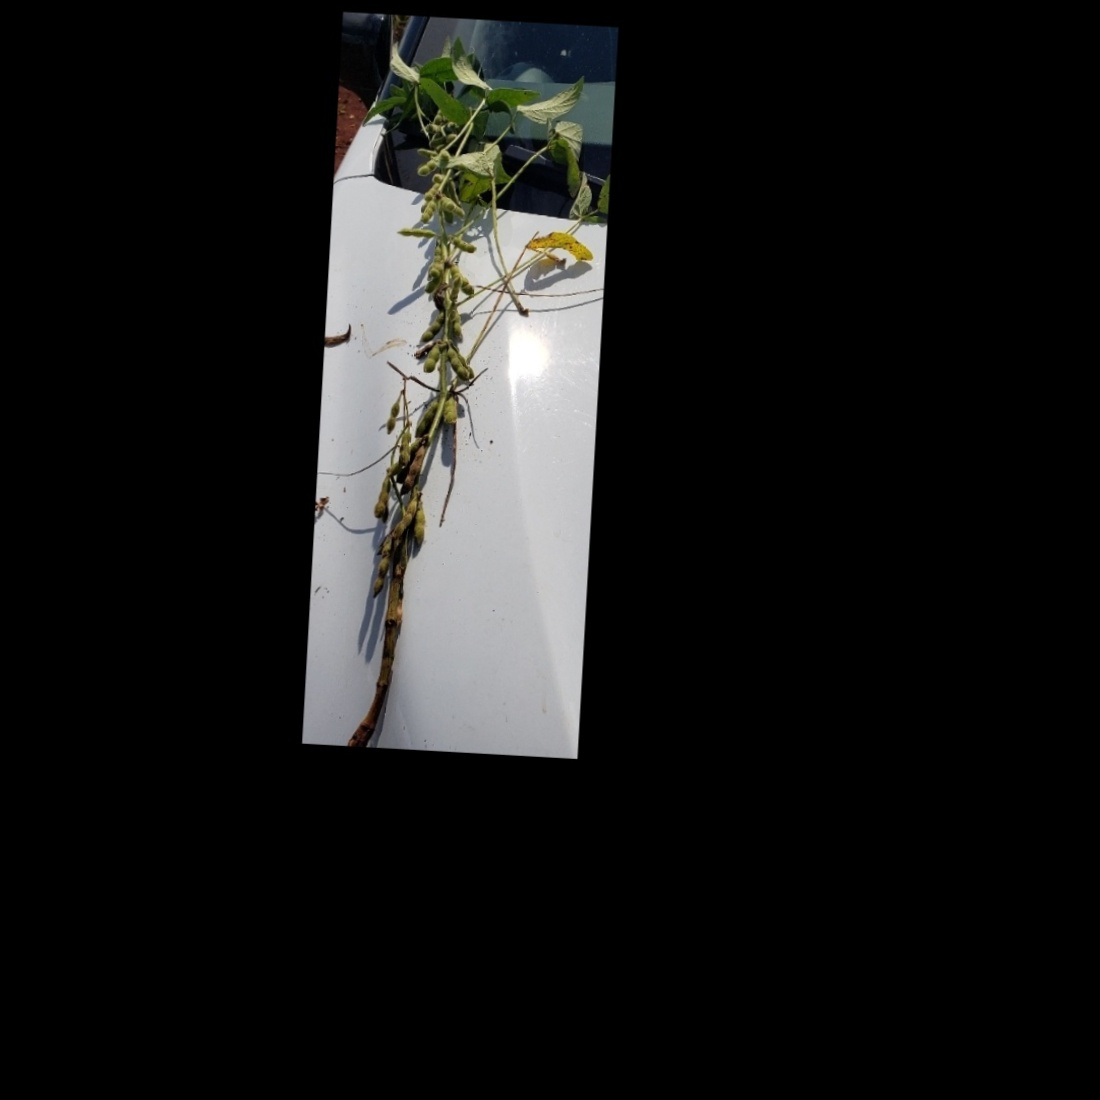pod: (363, 539, 394, 599), (396, 442, 424, 496), (391, 494, 422, 541), (442, 342, 473, 383), (418, 310, 448, 345), (394, 221, 440, 242), (372, 478, 393, 521), (383, 393, 403, 437), (419, 340, 440, 378), (438, 394, 461, 427), (410, 509, 428, 547), (449, 233, 479, 255), (418, 197, 439, 226), (414, 157, 440, 178)
soy: (318, 36, 595, 744)
